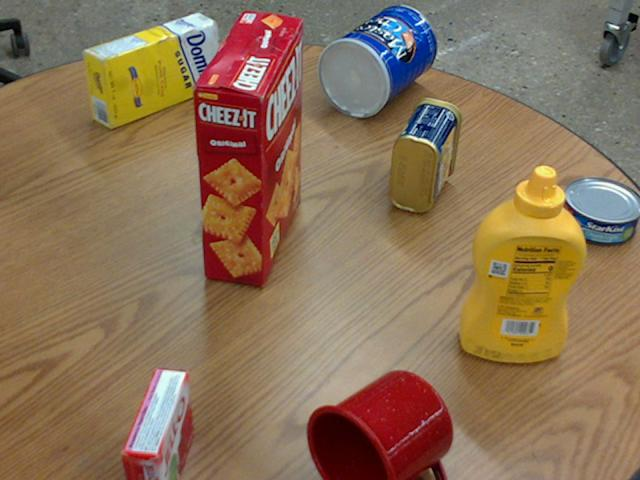cracker_box: (193, 11, 304, 285)
gelatin_box: (115, 368, 189, 479)
master_chef_can: (316, 4, 435, 116)
mug: (303, 370, 451, 479)
mustard_bottle: (458, 165, 584, 361)
potted_meat_can: (389, 97, 460, 211)
sugar_box: (83, 11, 219, 127)
tuna_fish_can: (557, 177, 639, 245)
